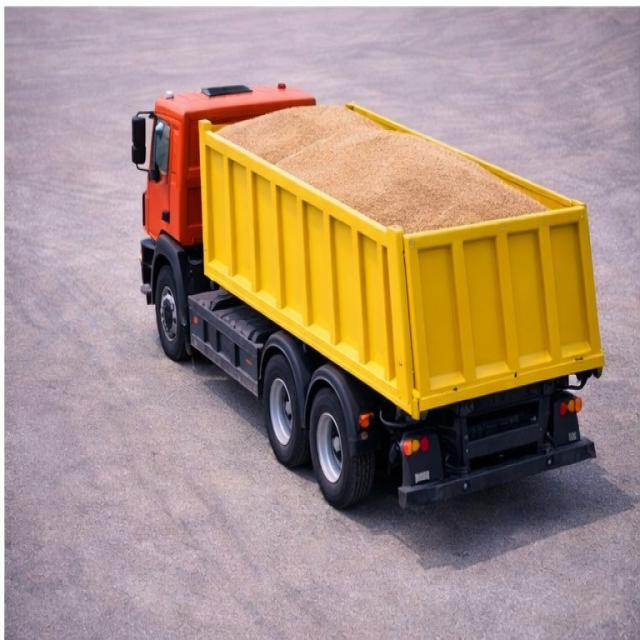Box: (202, 103, 586, 234)
Truck: (123, 44, 608, 552)
